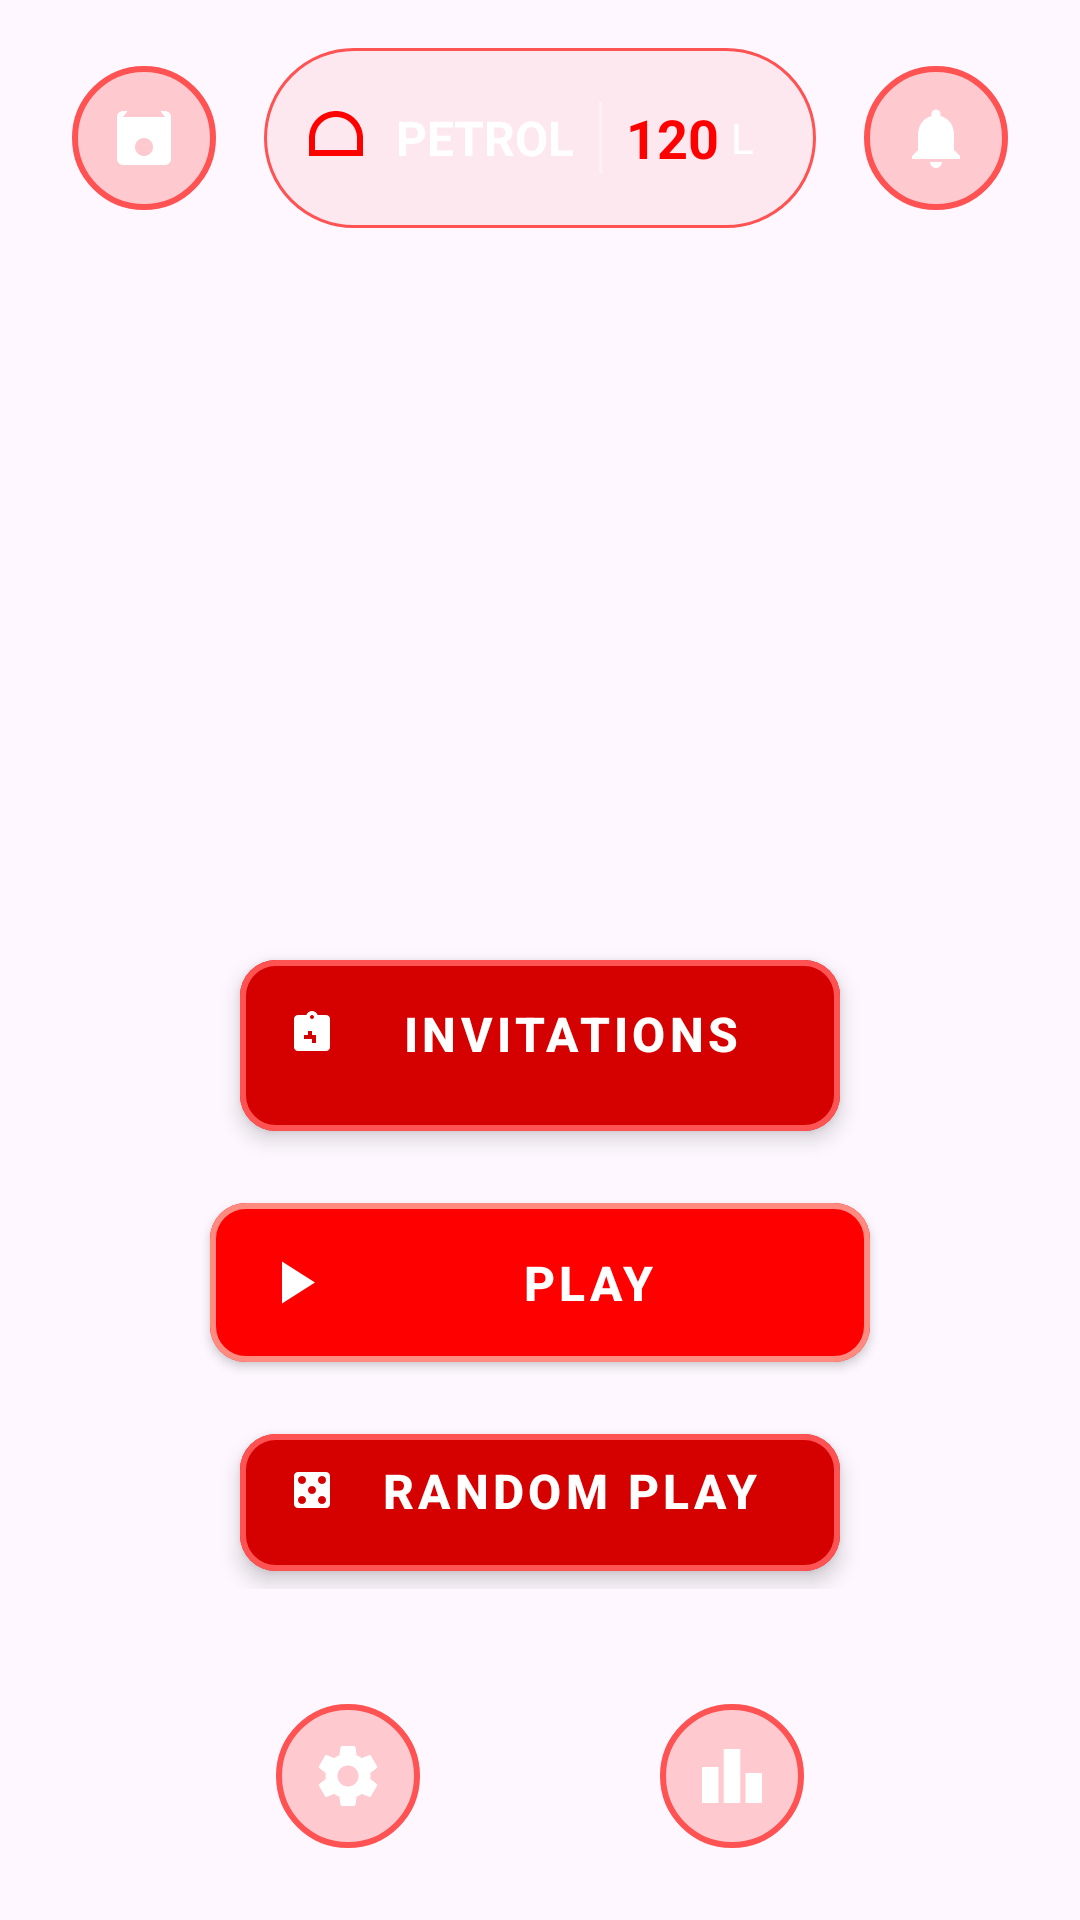

Icon bounding boxes for this 1080*1920 phone screenshot, format (x1, y1, x2, y2):
leaderboard: (660, 1704, 804, 1848)
notification: (864, 66, 1008, 210)
settings: (276, 1704, 420, 1848)
